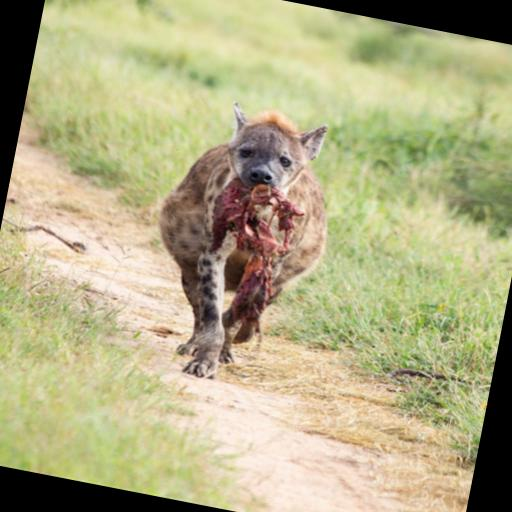hyenas: (96, 28, 374, 410)
